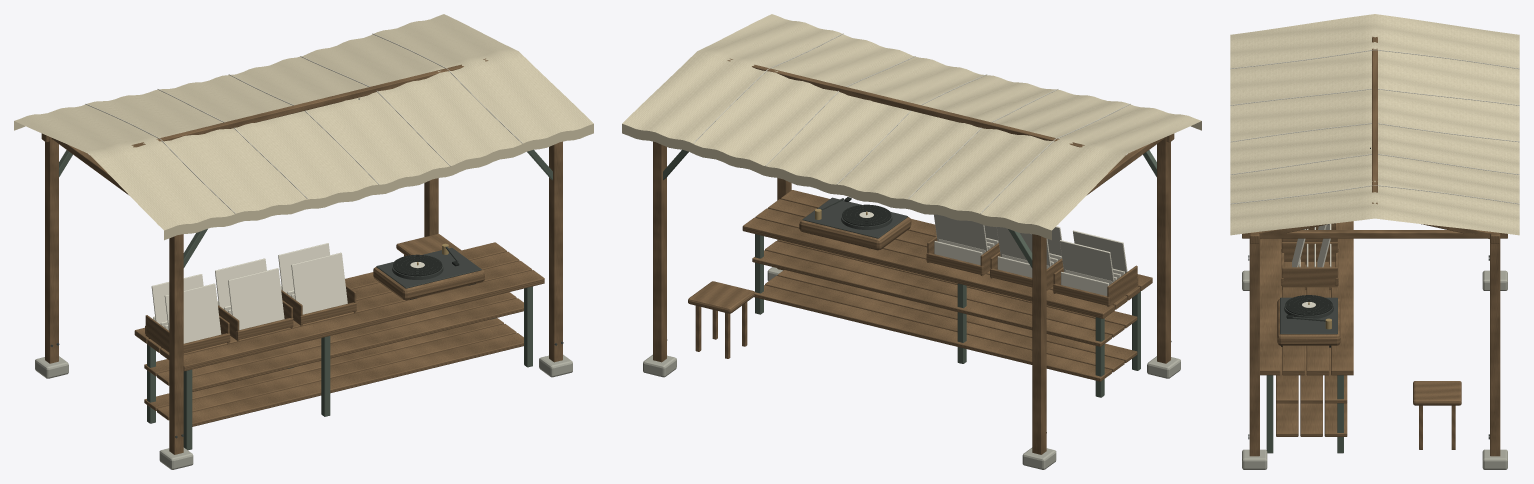
File: garden-stall.glb
3 renders of one model, left to right at view 1: azimuth 30°, elevation 25°; view 2: azimuth 150°, elevation 25°; view 3: azimuth 270°, elevation 25°, orthographic. The views are drawn at different scales.
Parts seen in each view (by area): view 1: stall_Unbleached_woven_canvas_stall_root, stall_Weathered_natural_timber_stall_root, stall_Dark_matte_garden_trim_stall_root, sleeve_06, sleeve_05, sleeve_04, stall_Weathered_limestone_stall_root, stall_Warm_paper_stall_root, stall_Weathered_natural_timber_turntable_root, stall_Dark_iron_hardware_turntable_root, sleeve_02, sleeve_03 (+2 smaller); view 2: stall_Unbleached_woven_canvas_stall_root, stall_Weathered_natural_timber_stall_root, stall_Warm_paper_stall_root, stall_Dark_matte_garden_trim_stall_root, stall_Weathered_limestone_stall_root, sleeve_01, stall_Weathered_natural_timber_turntable_root, sleeve_03, stall_Dark_iron_hardware_turntable_root, sleeve_04, vinyl, sleeve_02; view 3: stall_Unbleached_woven_canvas_stall_root, stall_Weathered_natural_timber_stall_root, stall_Warm_paper_stall_root, stall_Weathered_limestone_stall_root, stall_Dark_iron_hardware_turntable_root, stall_Dark_matte_garden_trim_stall_root, stall_Weathered_natural_timber_turntable_root, vinyl, stall_Dark_iron_hardware_platter_pivot.
Boxes of the visible parts, x1,y1,x2,y2 form: stall_Unbleached_woven_canvas_stall_root: (14,14,593,240); stall_Weathered_natural_timber_stall_root: (41,58,562,454); stall_Dark_matte_garden_trim_stall_root: (59,149,552,450); sleeve_06: (291,252,347,314); sleeve_05: (228,268,284,329); sleeve_04: (164,283,221,343); stall_Weathered_limestone_stall_root: (35,354,572,469); stall_Warm_paper_stall_root: (85,33,522,330); stall_Weathered_natural_timber_turntable_root: (373,250,484,300); stall_Dark_iron_hardware_turntable_root: (376,247,481,288); sleeve_02: (215,258,266,308); sleeve_03: (278,243,329,293); stall_Unbleached_woven_canvas_stall_root: (622,14,1201,240); stall_Weathered_natural_timber_stall_root: (653,58,1174,454); stall_Warm_paper_stall_root: (693,33,1130,295); stall_Dark_matte_garden_trim_stall_root: (663,149,1156,397); stall_Weathered_limestone_stall_root: (643,267,1180,469); sleeve_01: (1059,240,1114,282); stall_Weathered_natural_timber_turntable_root: (799,199,911,250); sleeve_03: (934,214,987,251); stall_Dark_iron_hardware_turntable_root: (802,197,907,238); sleeve_04: (1073,230,1127,273); vinyl: (842,204,891,226); sleeve_02: (996,227,1051,266); stall_Unbleached_woven_canvas_stall_root: (1230,14,1519,235); stall_Weathered_natural_timber_stall_root: (1242,36,1507,456); stall_Warm_paper_stall_root: (1230,49,1519,267); stall_Weathered_limestone_stall_root: (1242,270,1507,469); stall_Dark_iron_hardware_turntable_root: (1280,297,1337,334); stall_Dark_matte_garden_trim_stall_root: (1266,375,1343,453); stall_Weathered_natural_timber_turntable_root: (1277,299,1340,345); vinyl: (1285,295,1332,315); stall_Dark_iron_hardware_platter_pivot: (1284,295,1333,318).
Size of the model in its own units: 5.3 by 3.18 by 3.2.
Materials: 8 (2 with a texture image).
